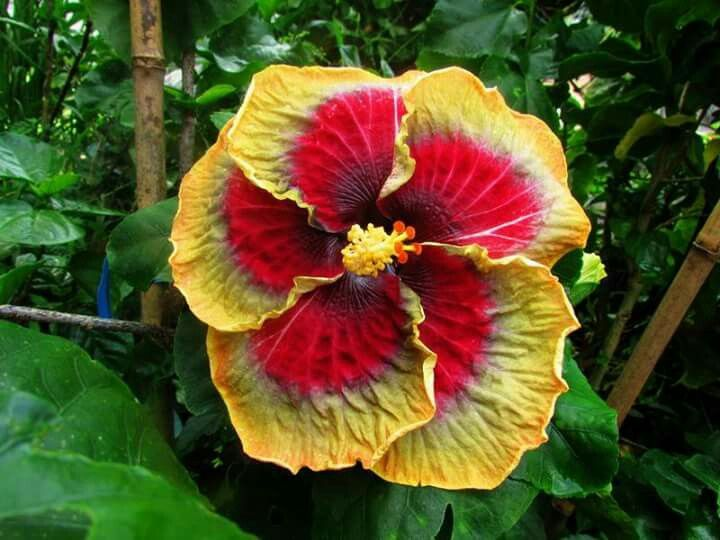Hibiscus: (165, 68, 593, 504)
